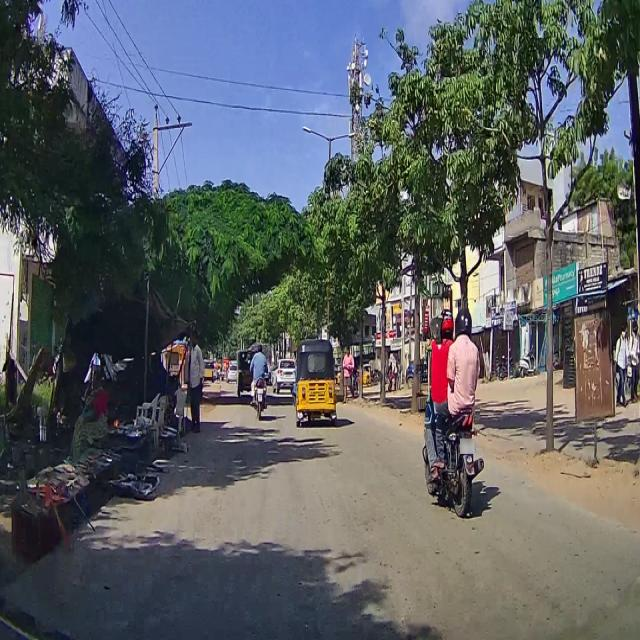auto ahead at: (290, 338, 341, 427)
motorcycle ahead at: (424, 406, 489, 520), (246, 375, 274, 415)
person ahead at: (185, 331, 212, 436)
